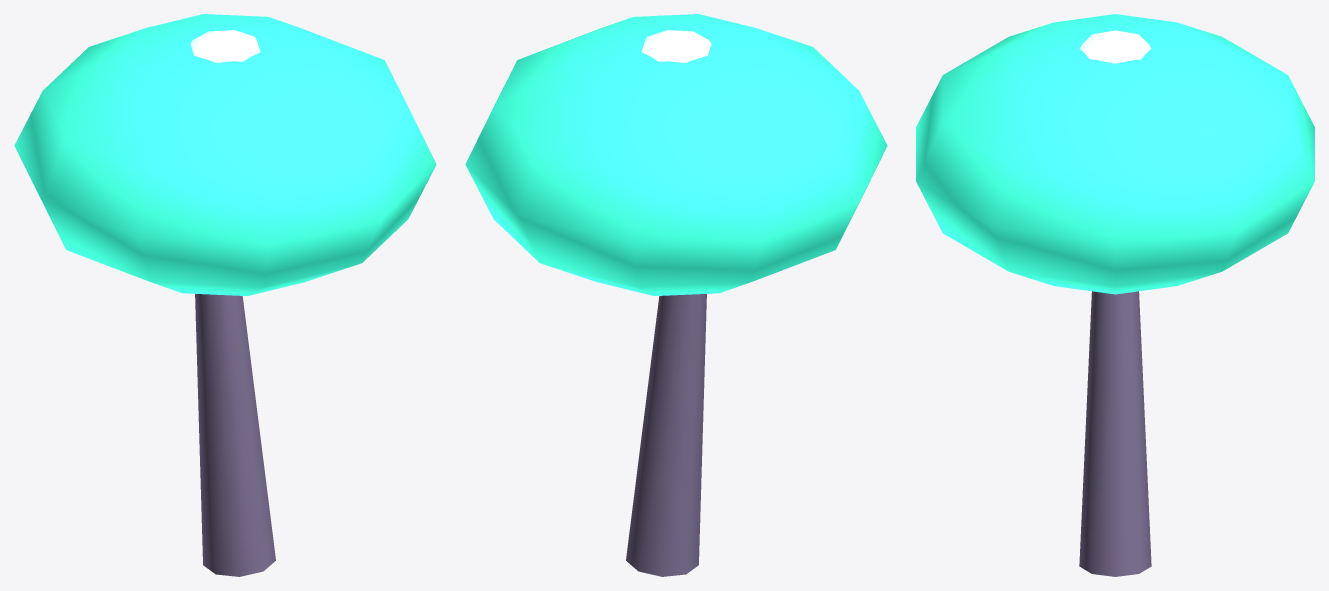
File: tree_elf.glb
The picture shows the model from 3 angles, left to right: view 1: azimuth 30°, elevation 25°; view 2: azimuth 150°, elevation 25°; view 3: azimuth 270°, elevation 25°; orthographic projection.
Parts seen in each view (by area): view 1: elf_leaves, elf_trunk, elf_blossom; view 2: elf_leaves, elf_trunk, elf_blossom; view 3: elf_leaves, elf_trunk, elf_blossom.
Part boxes in pixels (left/top/right/bottom): elf_leaves: left=14, top=14, right=436, bottom=295; elf_trunk: left=195, top=294, right=275, bottom=576; elf_blossom: left=190, top=30, right=260, bottom=62; elf_leaves: left=465, top=14, right=887, bottom=295; elf_trunk: left=626, top=294, right=706, bottom=576; elf_blossom: left=641, top=30, right=711, bottom=62; elf_leaves: left=916, top=14, right=1314, bottom=294; elf_trunk: left=1079, top=291, right=1151, bottom=576; elf_blossom: left=1079, top=30, right=1151, bottom=63.
Size of the model in its own units: 4.8 by 6.67 by 4.57.
